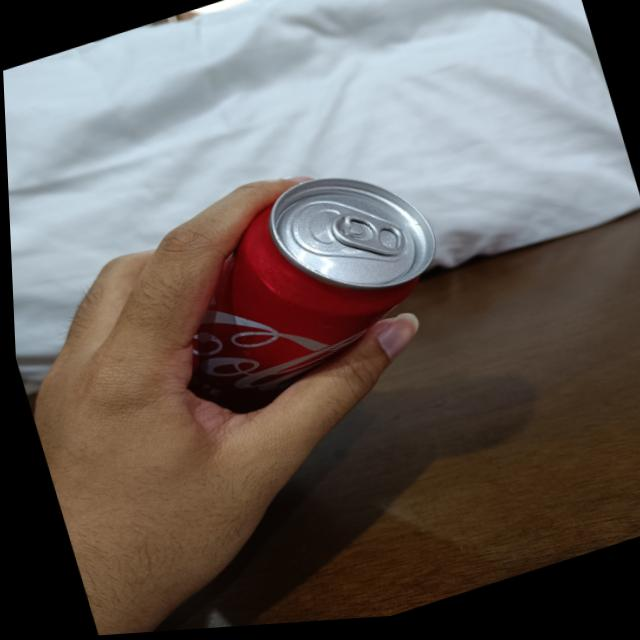coke: (102, 152, 464, 429)
